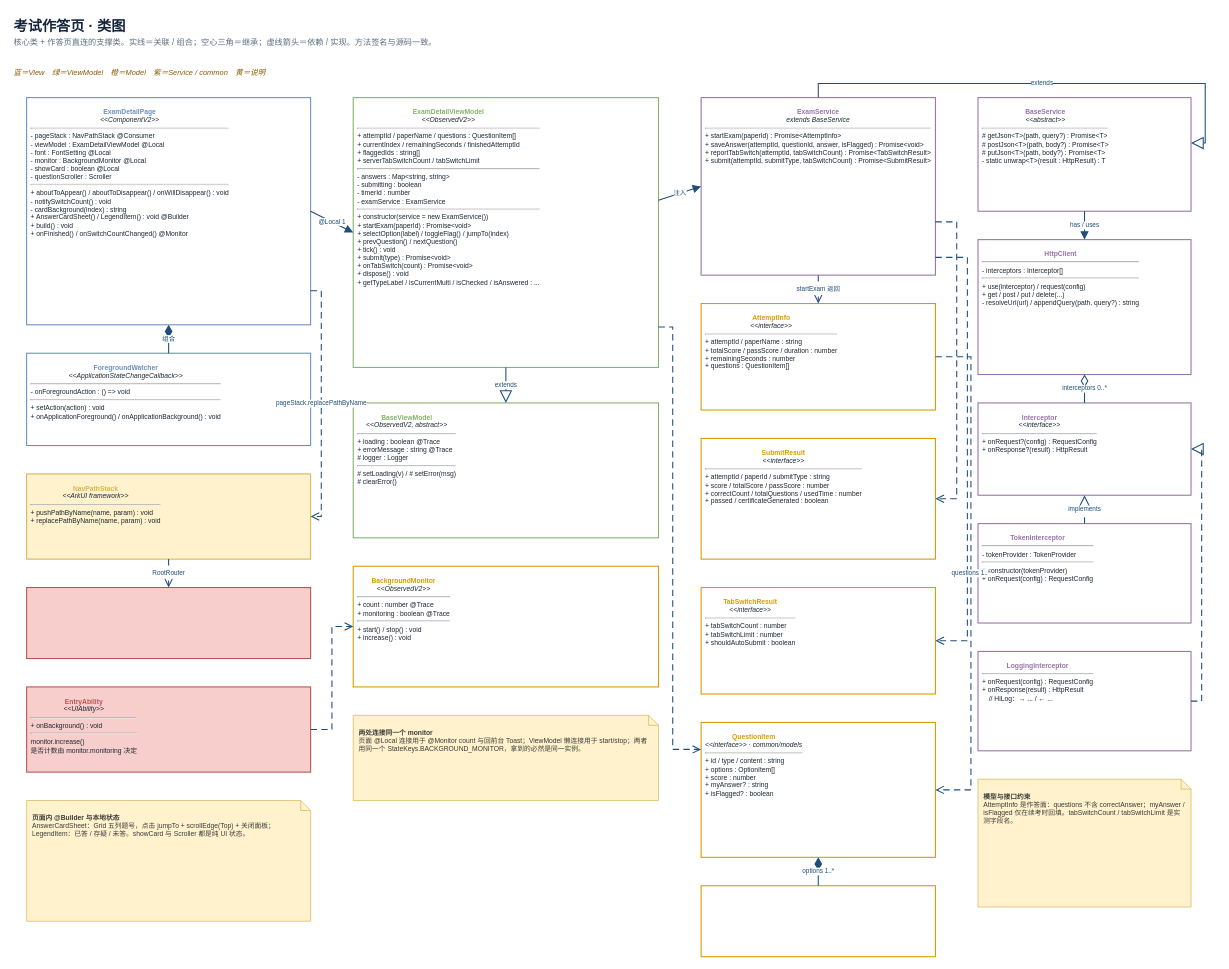
The diagram is 1229 pixels wide and 969 high, and some of its shapes have lost their labels. The shapes that lost their labels are listed below. From the top down, each one's centre as x and y in pixels, then its label:
At point (168, 623): "AnswerResultPage （结果页，非本页实现） 接收 attemptId；由 replacePathByName 进入 交卷后不可返回答题页".
At point (818, 921): "OptionItem <<interface>> · common/models + label : string + content : string".
